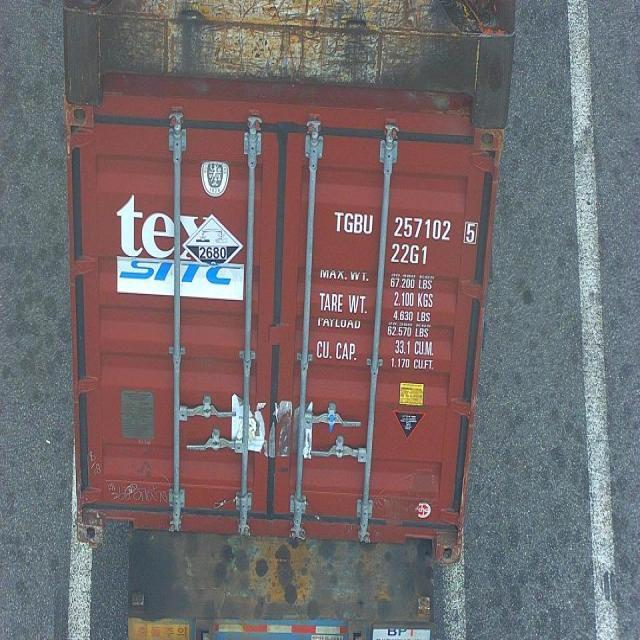ISO: (394, 242, 428, 265)
container_number: (332, 207, 478, 244)
